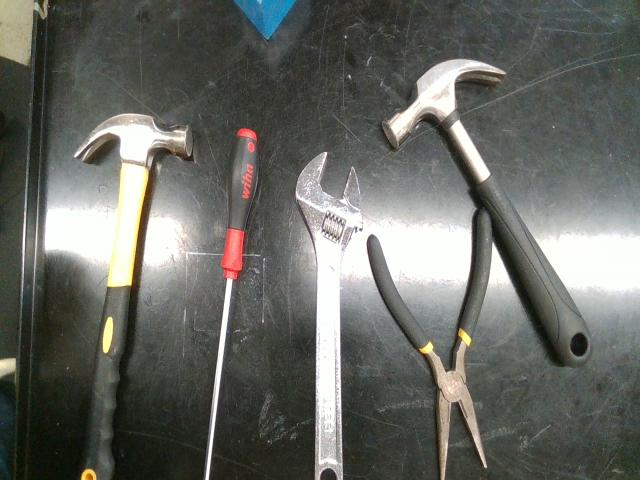Adjustable spanner: (296, 152, 362, 480)
Hammer: (382, 60, 591, 366), (75, 113, 192, 480)
Needle-nose pliers: (368, 208, 491, 479)
Screwdriver: (204, 128, 259, 480)
